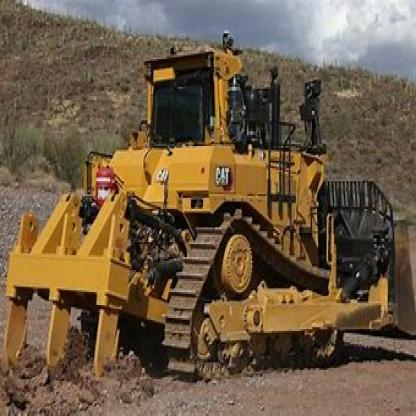bull_dozer/loader/grader: (5, 31, 415, 381)
